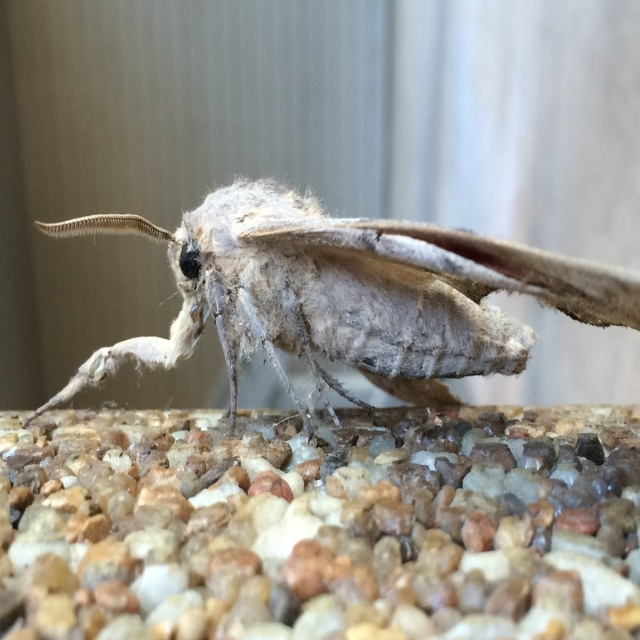Moths and butterflies: (20, 175, 640, 441)
